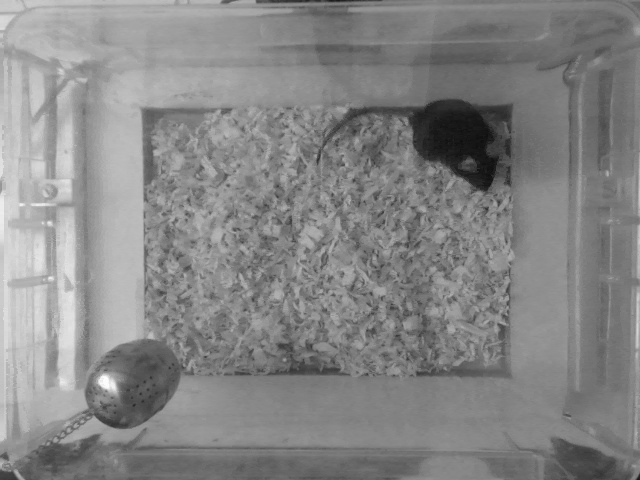mice: (317, 100, 504, 193)
